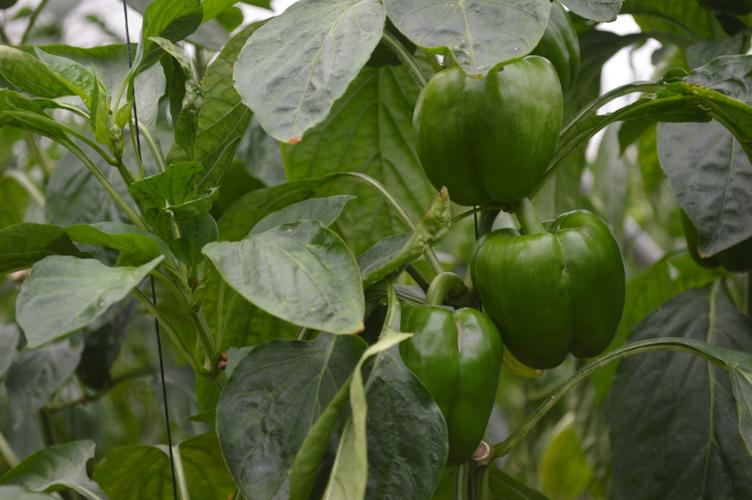BellPepper: (465, 213, 638, 371), (409, 46, 568, 211), (359, 289, 499, 471)
